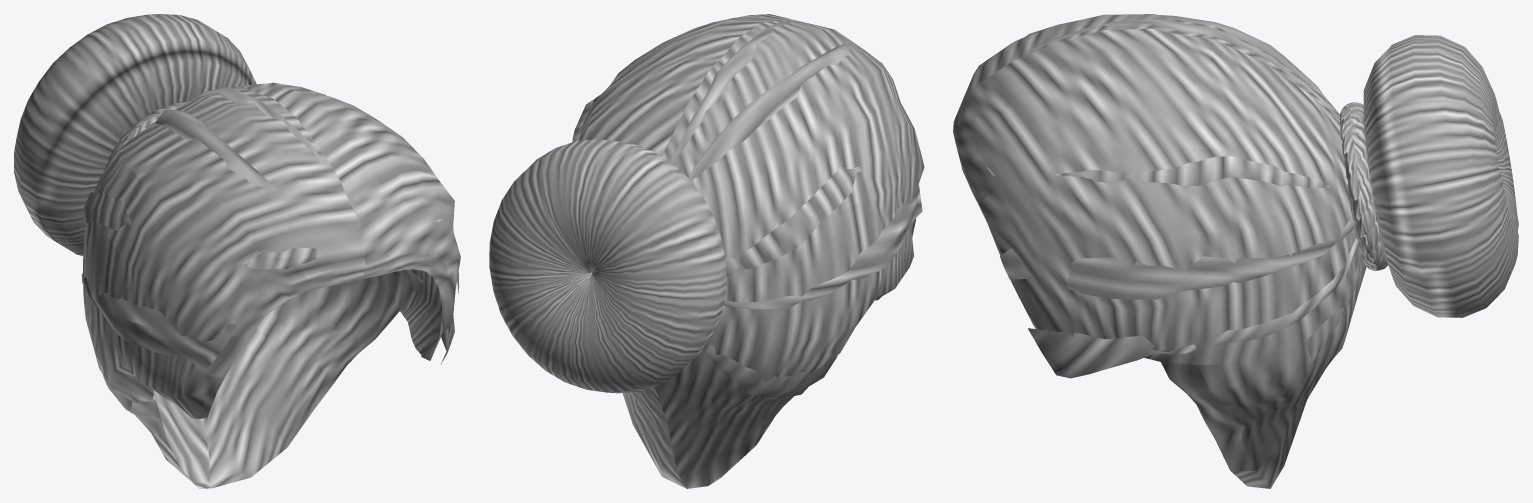
File: daz_hair_rehman_bun.glb
The picture shows the model from 3 angles, left to right: view 1: azimuth 30°, elevation 25°; view 2: azimuth 150°, elevation 25°; view 3: azimuth 270°, elevation 25°; orthographic projection. The views are drawn at different scales.
Parts seen in each view (by area): view 1: daz_hair_rehman_bun; view 2: daz_hair_rehman_bun; view 3: daz_hair_rehman_bun.
Boxes of the visible parts, x1=… form: daz_hair_rehman_bun: x1=14, y1=14, x2=460, y2=488; daz_hair_rehman_bun: x1=489, y1=14, x2=924, y2=488; daz_hair_rehman_bun: x1=953, y1=14, x2=1518, y2=488.
Size of the model in its own units: 0.1514 by 0.1995 by 0.2259.
1 material, 1 textured.
